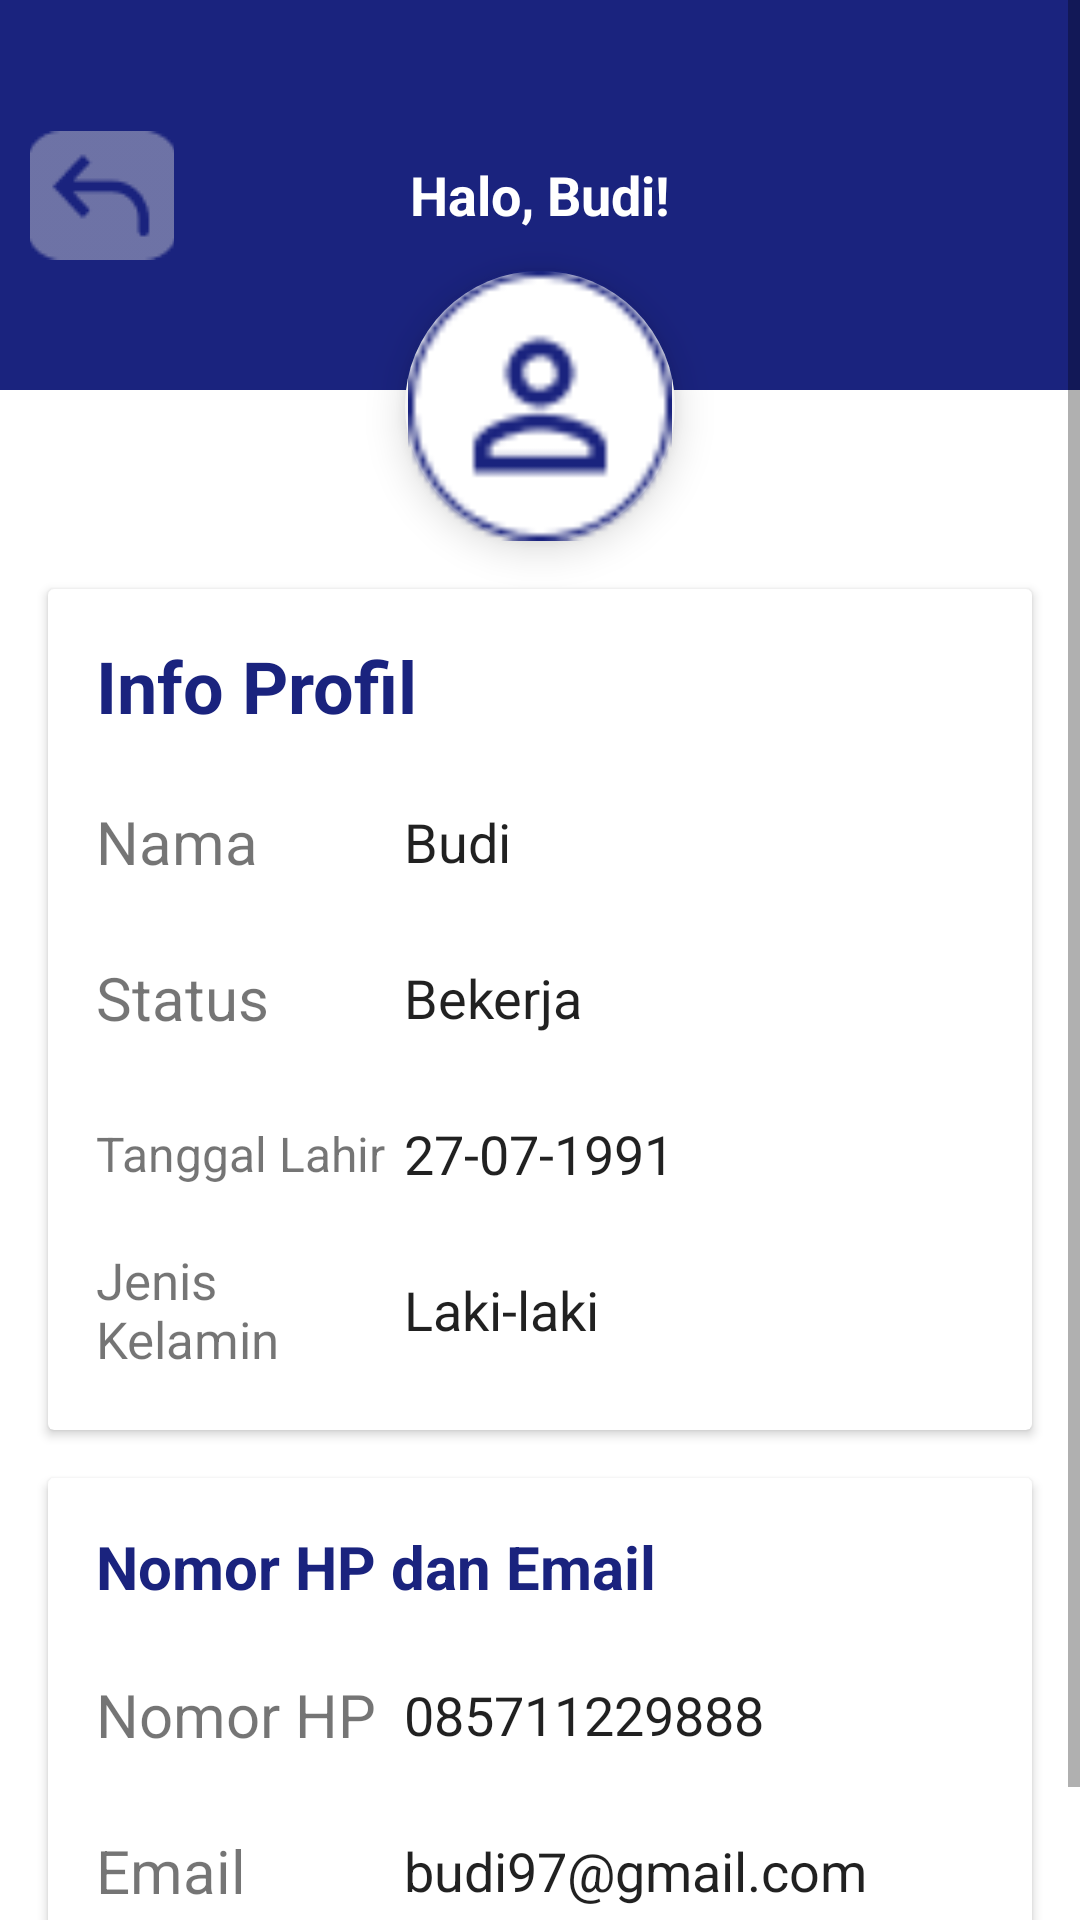

Point at icon controls on the screen. Image size 1080x1920, points as point (x, y).
Back: point (102, 195)
user: point (540, 406)
